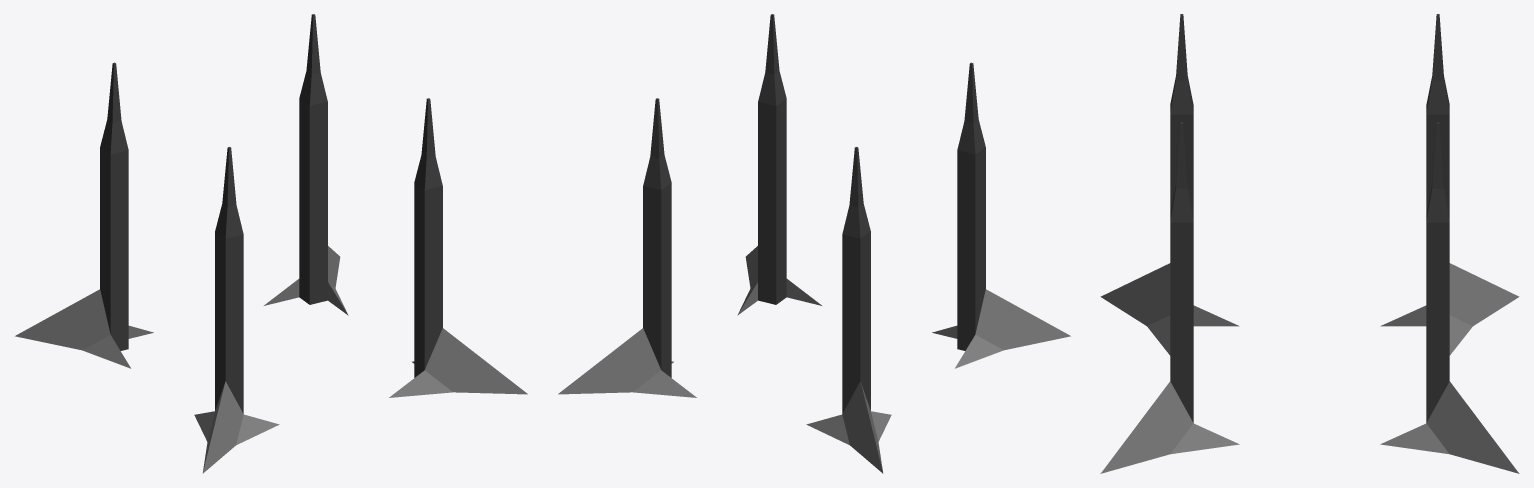
File: 3DhakkiTOLPAT.fbx
3 views of the same model, side by side, from view 1: azimuth 30°, elevation 25°; view 2: azimuth 150°, elevation 25°; view 3: azimuth 270°, elevation 25° (orthographic). The views are drawn at different scales.
Parts seen in each view (by area): view 1: Cube.001; view 2: Cube.001; view 3: Cube.001.
Part boxes in pixels (left/top/right/bottom): Cube.001: left=15, top=14, right=527, bottom=473; Cube.001: left=558, top=14, right=1070, bottom=473; Cube.001: left=1100, top=14, right=1519, bottom=473.
Size of the model in its own units: 600 by 500 by 600.
1 material, 1 textured.
